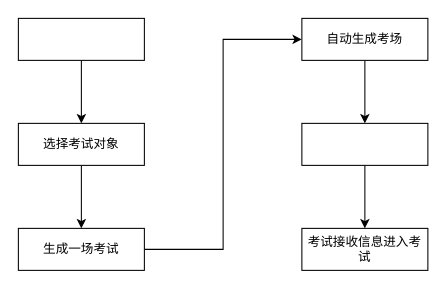
The diagram is 446 pixels wide and 289 high, and some of its shapes have lost their labels. The shapes that lost their labels are listed below. From the top down, each one's centre as x and y in pixels, then its label:
At (x=80, y=38): "选择试卷".
At (x=364, y=143): "发送考场信息给考生".
